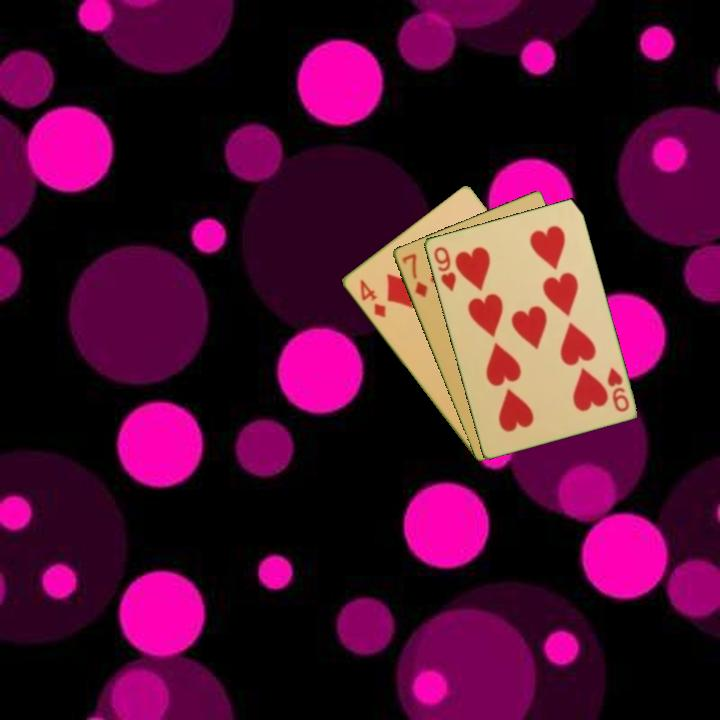4d: (356, 275, 388, 321)
7d: (398, 250, 430, 301)
9h: (430, 243, 459, 294), (603, 364, 632, 415)
